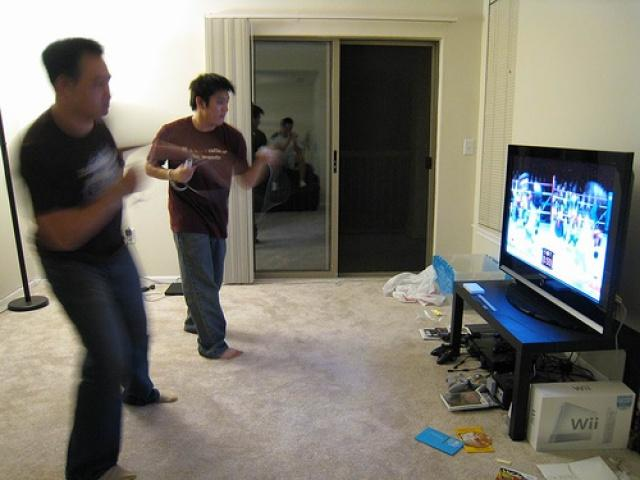AIO PC-Monitor-TV: (497, 142, 636, 334)
Meja: (447, 275, 639, 382)
